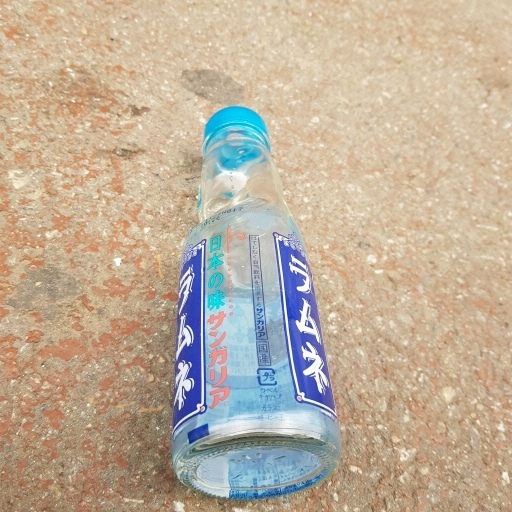Glass_4: (164, 104, 341, 499)
